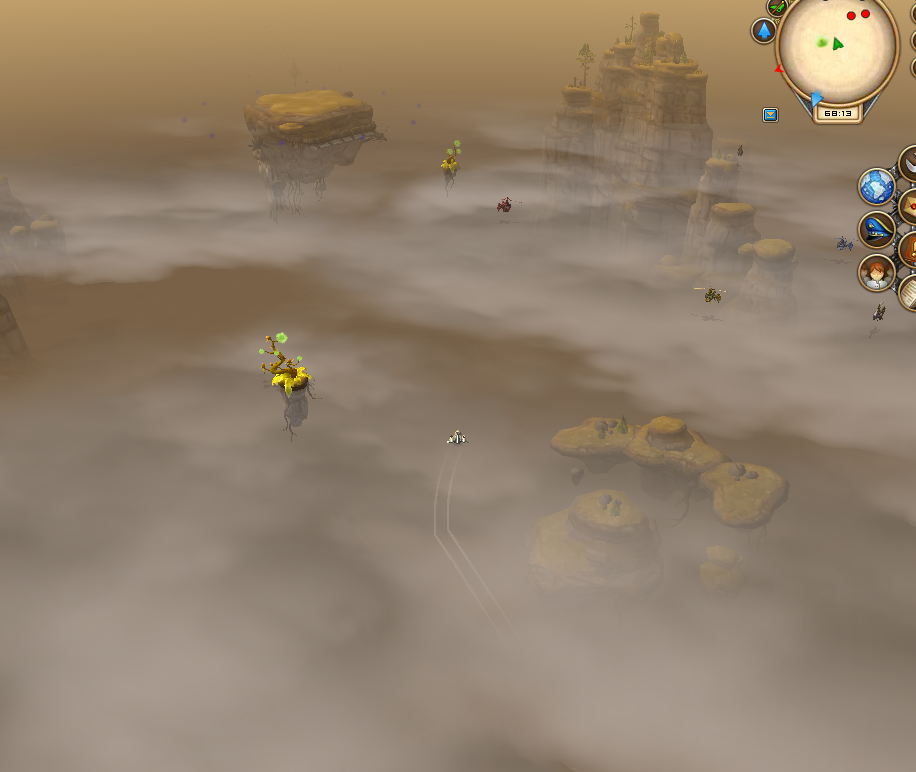dandelion-full: (255, 328, 326, 442), (437, 135, 465, 190)
